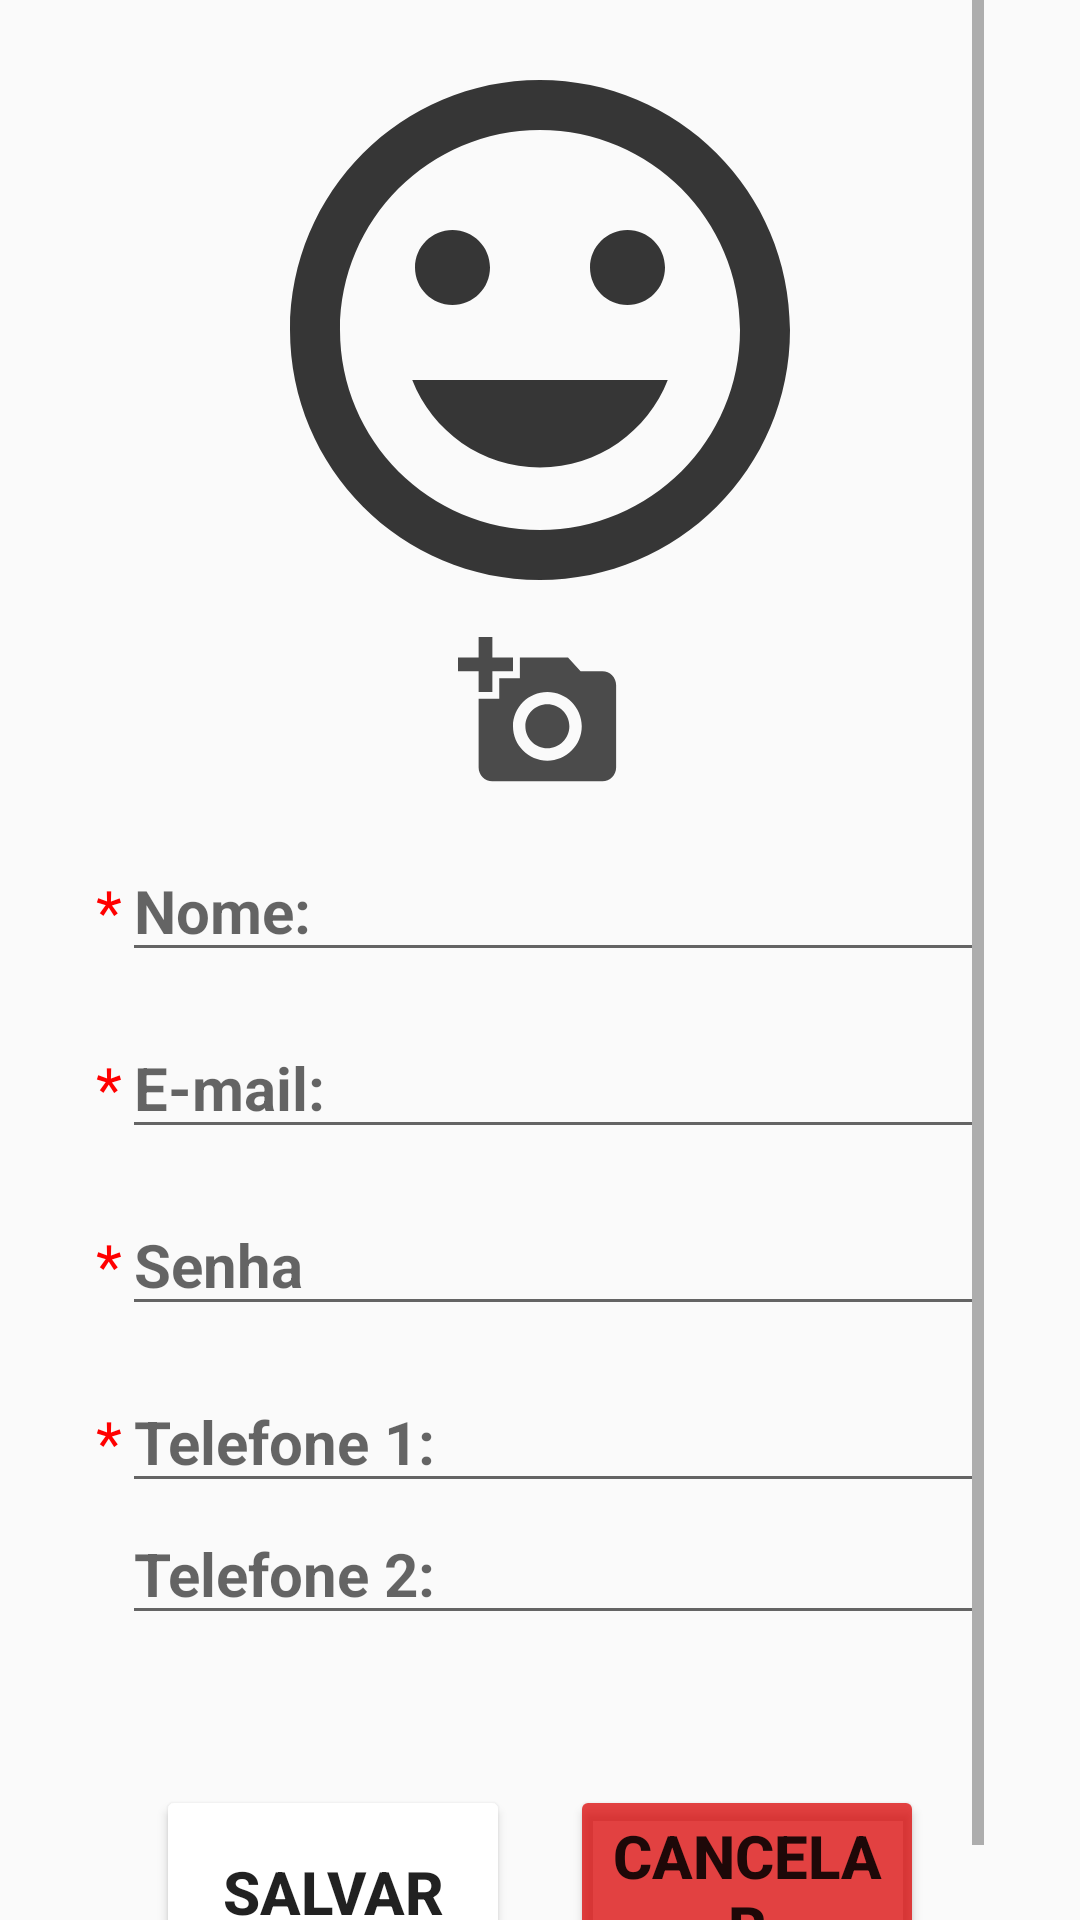

Point at icon controls on the screen. Image size 1080px x 1920px, points as (x=x, y=y).
add foto: (x=537, y=709)
